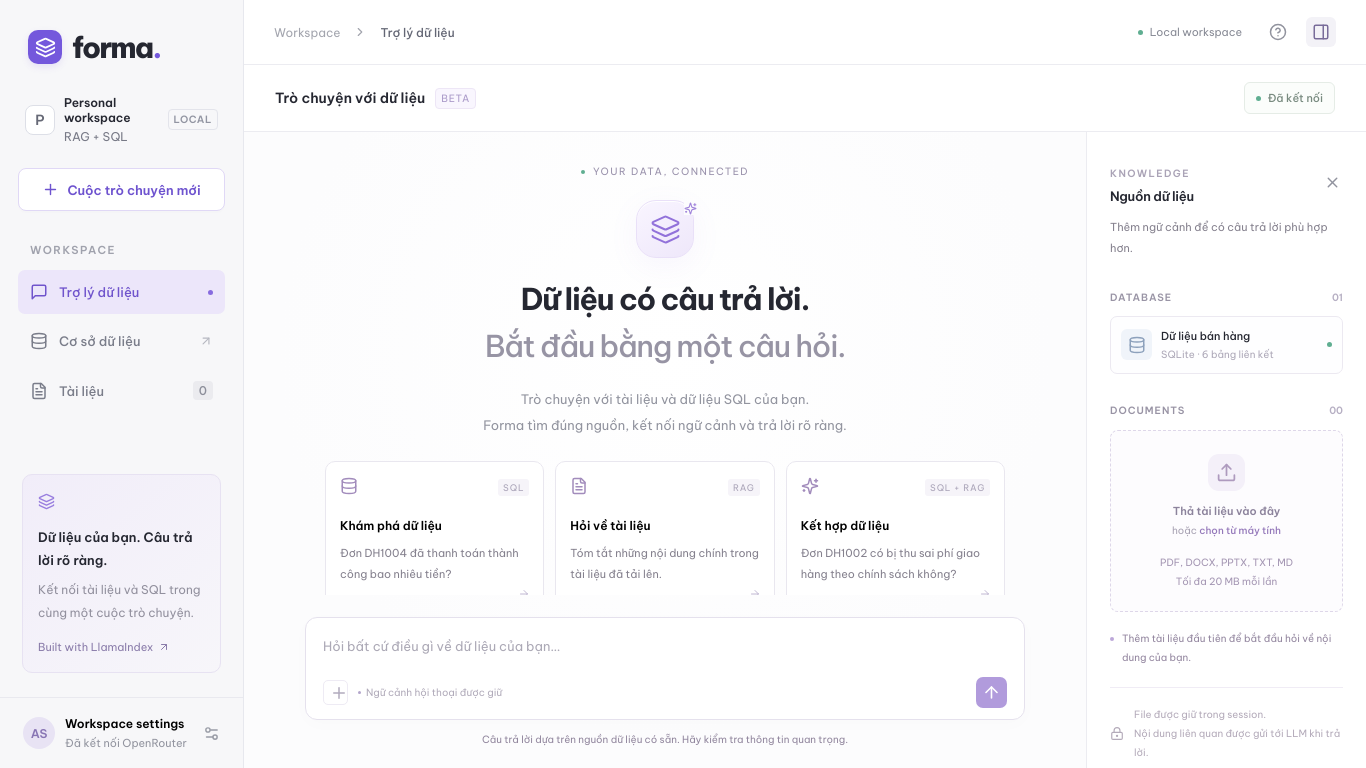
Test: Workspace interactions › restores the draft after a failed query and allows retry
Expected: the button "Đã kết nối" is shown, [1244,82,1335,114]
Type "Chicago?" into the text box named "Câu hỏi của bạn" at (665, 650), box [323,635,1007,666]
Then press Enter
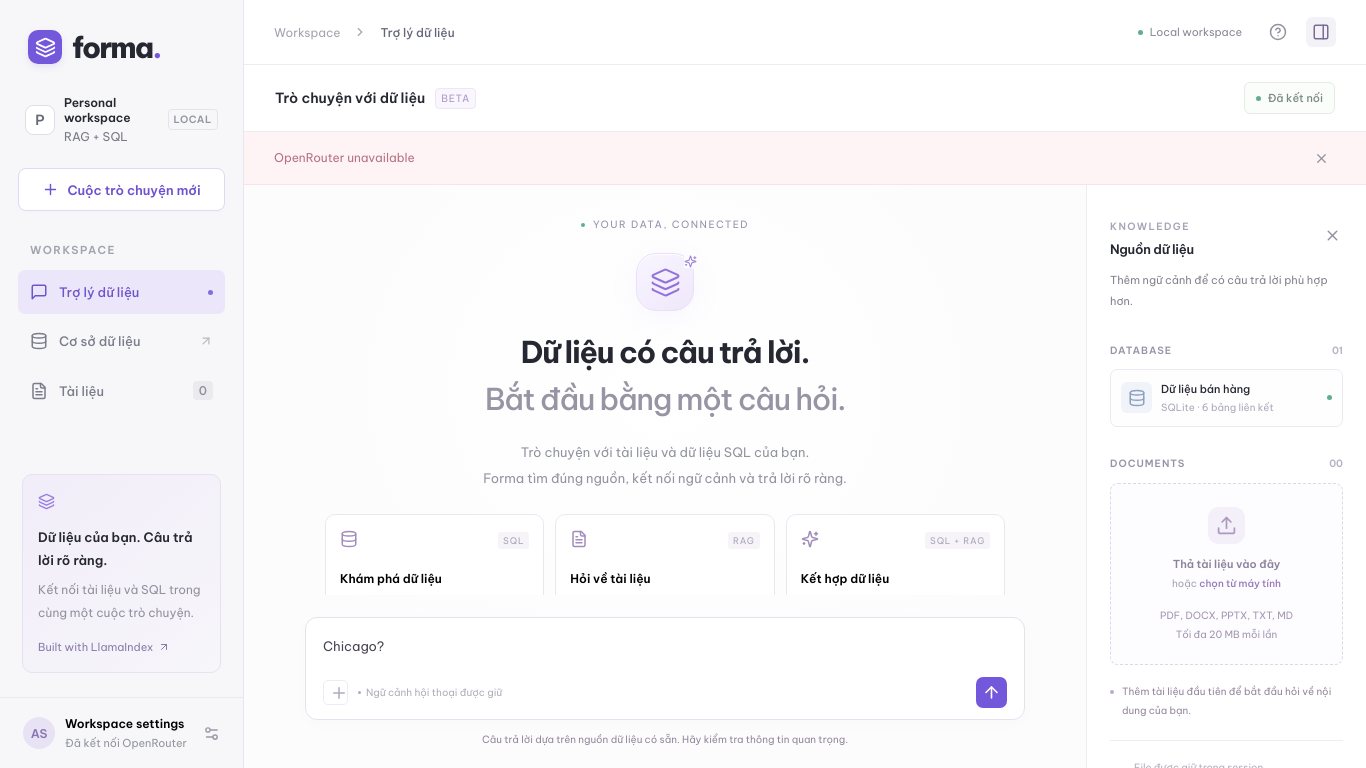
Result: the message "OpenRouter unavailable" is shown at [244,132,1365,185]
Result: the message reads "OpenRouter unavailable" at [274,150,415,165]
Result: the button named "Gửi câu hỏi" is enabled at [976,677,1007,708]
